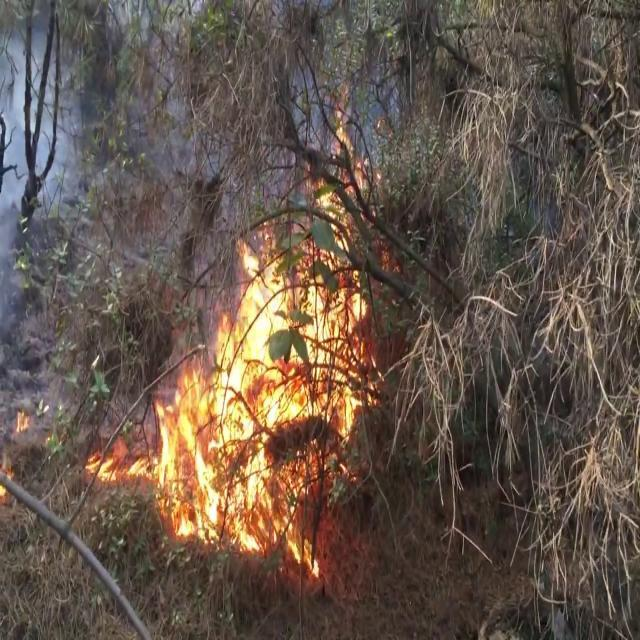Fire: (229, 280, 359, 570), (242, 221, 314, 406), (312, 134, 389, 278), (124, 380, 203, 518), (72, 422, 140, 492), (9, 388, 40, 489), (0, 472, 15, 522)
Smoke: (0, 41, 168, 316)
